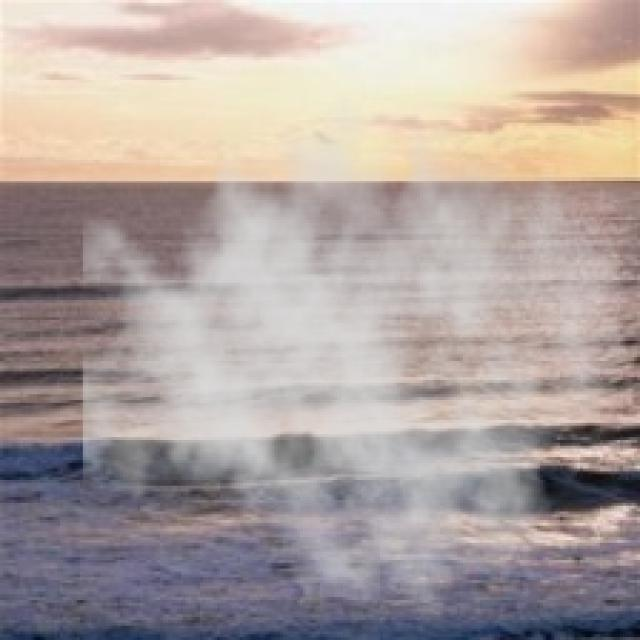Smoke: (83, 65, 632, 626)
